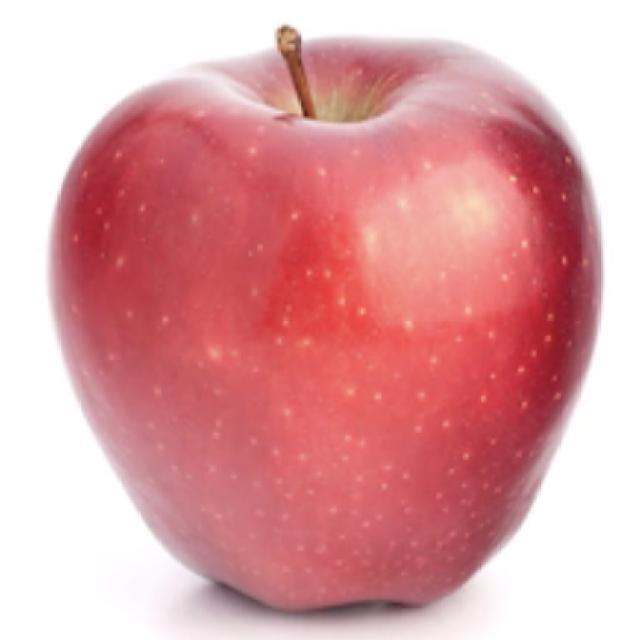Fresh Apple: (50, 44, 597, 598)
